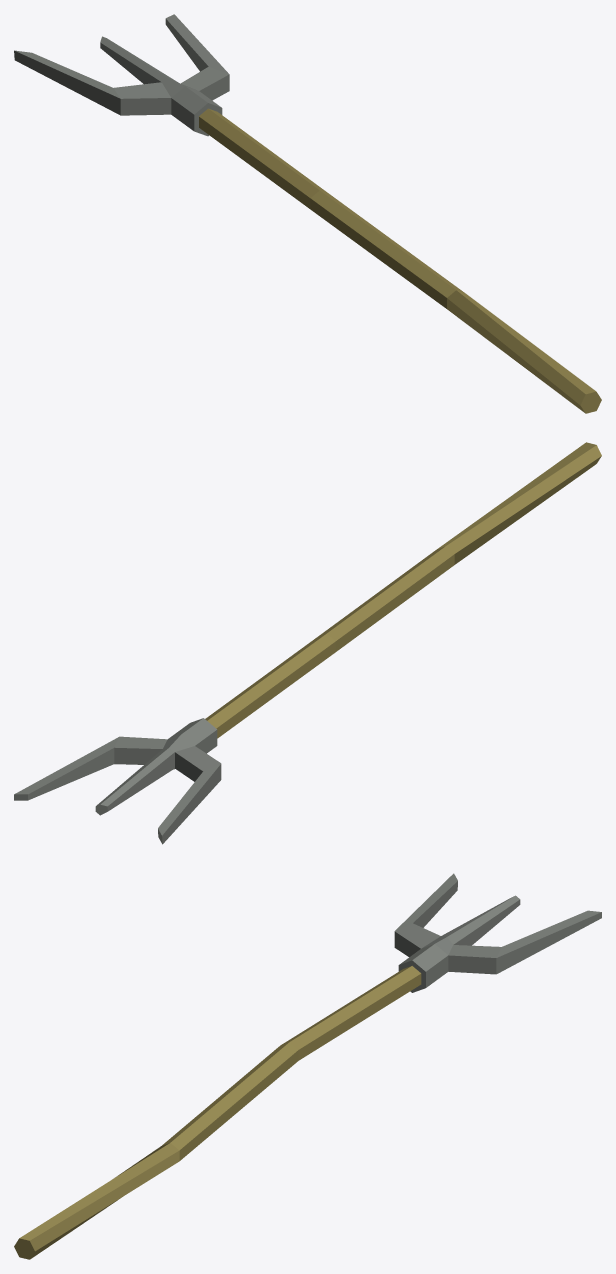
Rendered from gardentool02.fbx.
The picture shows the model from 3 angles, top to bottom: view 1: azimuth 30°, elevation 25°; view 2: azimuth 150°, elevation 25°; view 3: azimuth 330°, elevation 25°; orthographic projection. The views are drawn at different scales.
Parts seen in each view (by area): view 1: Cylinder.003; view 2: Cylinder.003; view 3: Cylinder.003.
Boxes of the visible parts, x1,y1,x2,y2 form: Cylinder.003: [14, 14, 601, 413]; Cylinder.003: [14, 442, 601, 844]; Cylinder.003: [14, 873, 601, 1259].
Bounding box in the file's own units: 0.1713 × 0.0365 × 0.9668.
